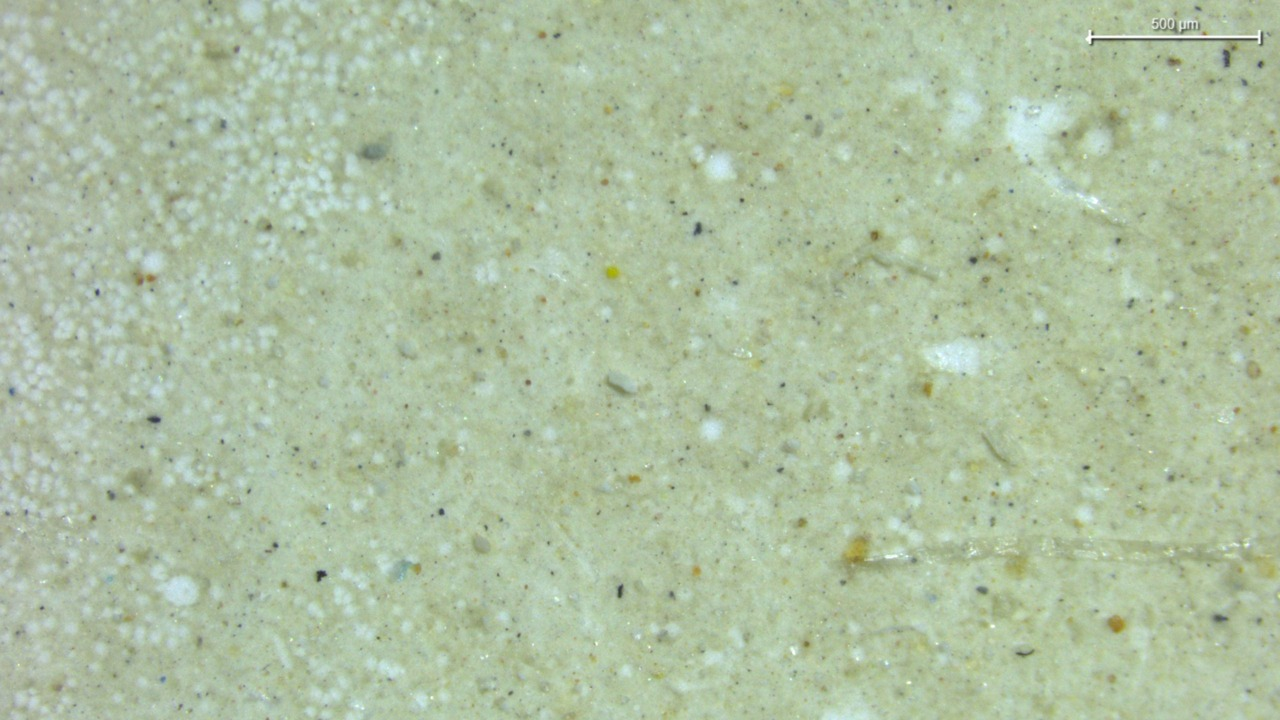microplastic_fragment: (606, 371, 637, 394), (398, 340, 418, 359)
